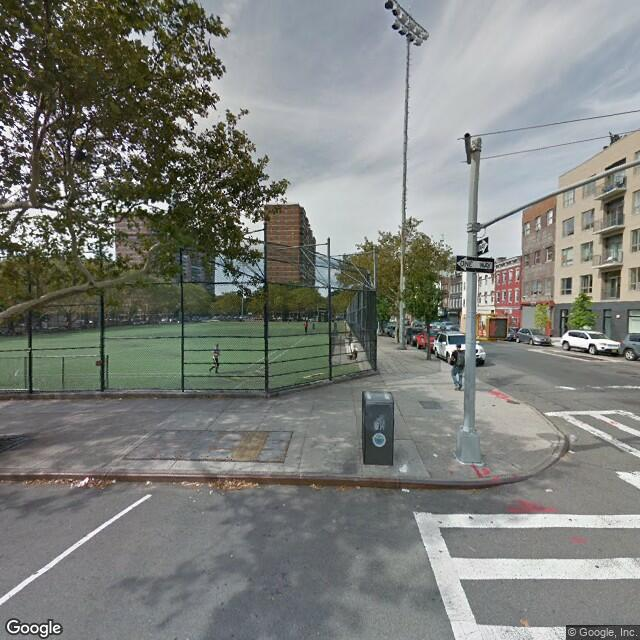litter: (69, 473, 93, 489), (306, 481, 323, 496), (177, 478, 197, 488), (400, 484, 414, 497), (398, 462, 410, 474), (568, 430, 579, 443), (144, 478, 154, 490), (356, 484, 366, 495), (107, 476, 117, 485), (207, 487, 216, 497), (543, 486, 553, 495), (115, 393, 123, 403), (568, 450, 575, 457), (153, 396, 160, 402), (197, 483, 201, 490)
